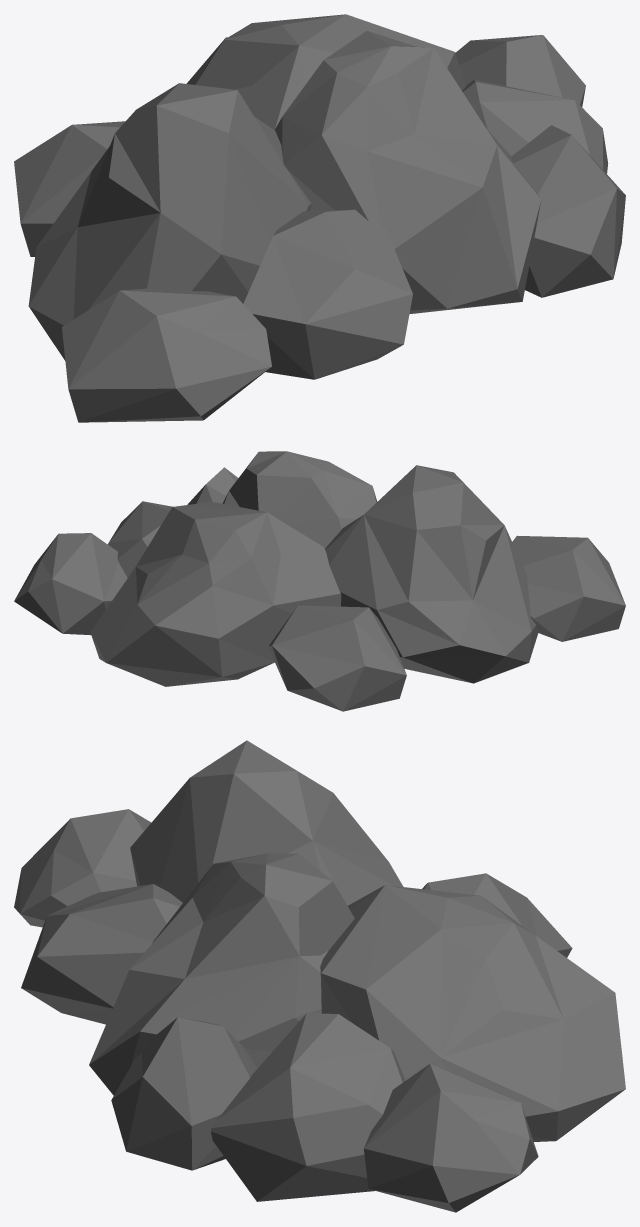
Rendered from SM_Gen_Env_Bush_01.glb.
3 views of the same model, one above another, from view 1: azimuth 30°, elevation 25°; view 2: azimuth 150°, elevation 25°; view 3: azimuth 270°, elevation 25° (orthographic). The views are drawn at different scales.
Parts seen in each view (by area): view 1: SM_Gen_Env_Bush_01; view 2: SM_Gen_Env_Bush_01; view 3: SM_Gen_Env_Bush_01.
Part boxes in pixels (bbox=[...]): SM_Gen_Env_Bush_01: bbox=[14, 14, 625, 422]; SM_Gen_Env_Bush_01: bbox=[14, 451, 625, 711]; SM_Gen_Env_Bush_01: bbox=[14, 740, 625, 1212].
Bounding box in the file's own units: 3.71 × 1.4 × 2.9.
Materials: 1 (1 with a texture image).
